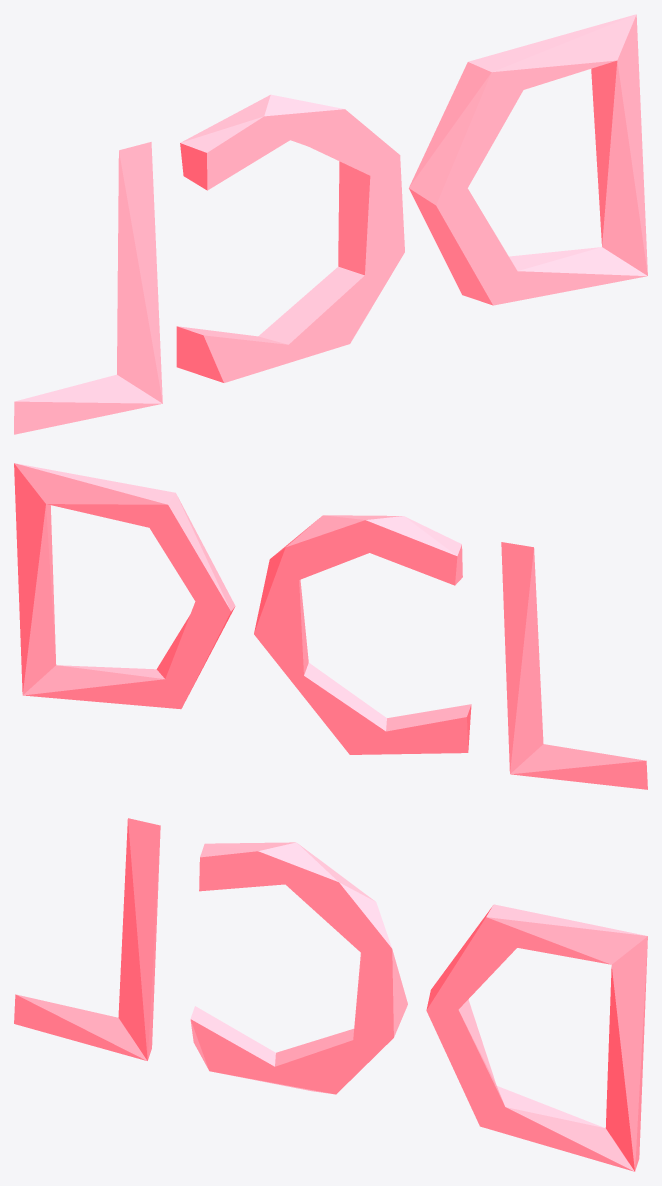
3 renders of one model, top to bottom at view 1: azimuth 30°, elevation 25°; view 2: azimuth 150°, elevation 25°; view 3: azimuth 330°, elevation 25°, orthographic. The views are drawn at different scales.
Parts seen in each view (by area): view 1: Text1_DCL_Red.001; view 2: Text1_DCL_Red.001; view 3: Text1_DCL_Red.001.
Boxes of the visible parts, x1,y1,x2,y2 form: Text1_DCL_Red.001: (14,14,647,434); Text1_DCL_Red.001: (14,463,647,789); Text1_DCL_Red.001: (14,818,647,1171).
Bounding box in the file's own units: 3.75 × 1.47 × 0.4489.
